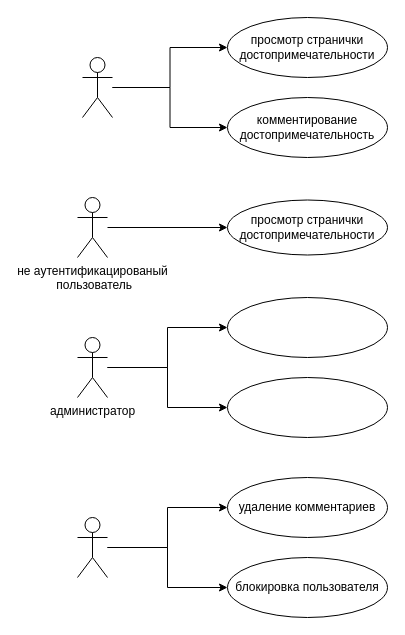
This 405x635 diagram has some shape labels left out. The shapes that lost their labels are listed below. From the top down, each one's centre as x and y in pixels, then its label:
(x=97, y=87): пользователь
(x=307, y=327): добавление достопримечательности
(x=307, y=407): изменение достопримечательности
(x=92, y=547): модератор
